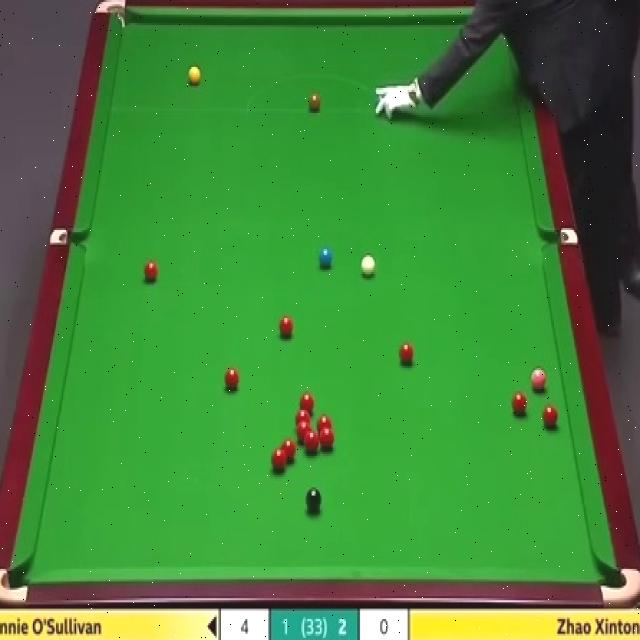black-ball: (305, 487, 322, 510)
blue-ball: (318, 246, 334, 270)
brown-ball: (307, 92, 321, 112)
pink-ball: (530, 368, 548, 392)
red-ball: (512, 389, 528, 416), (541, 403, 558, 428), (278, 314, 294, 340), (320, 425, 335, 451), (281, 438, 296, 463), (272, 447, 287, 472), (398, 341, 414, 364), (224, 366, 239, 389), (299, 391, 314, 414), (143, 261, 158, 284), (305, 430, 319, 453), (297, 421, 311, 442), (294, 409, 310, 427), (317, 413, 333, 430)
white-ball: (359, 253, 377, 279)
yellow-ball: (188, 66, 200, 88)
